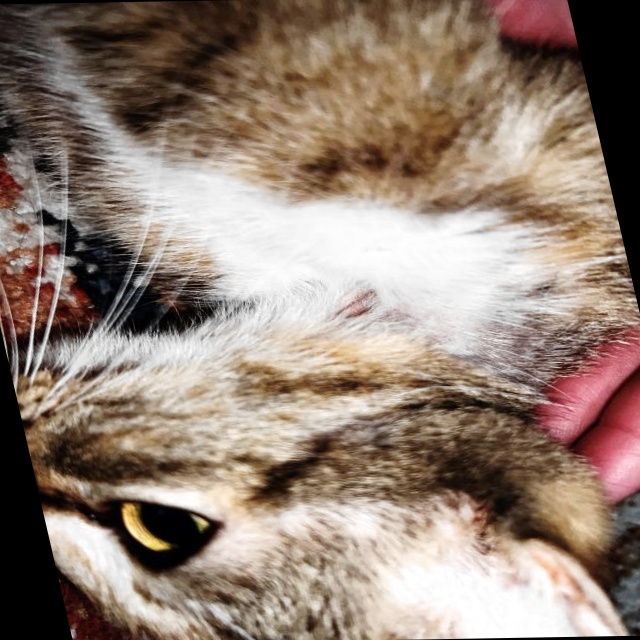hairloss: (301, 278, 526, 362)
